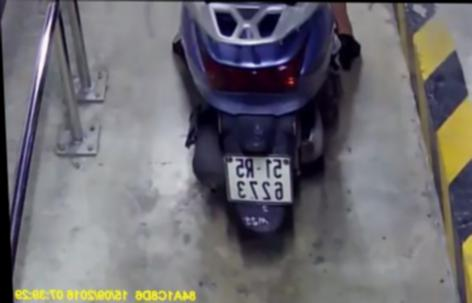License_Plate: (221, 149, 300, 210)
